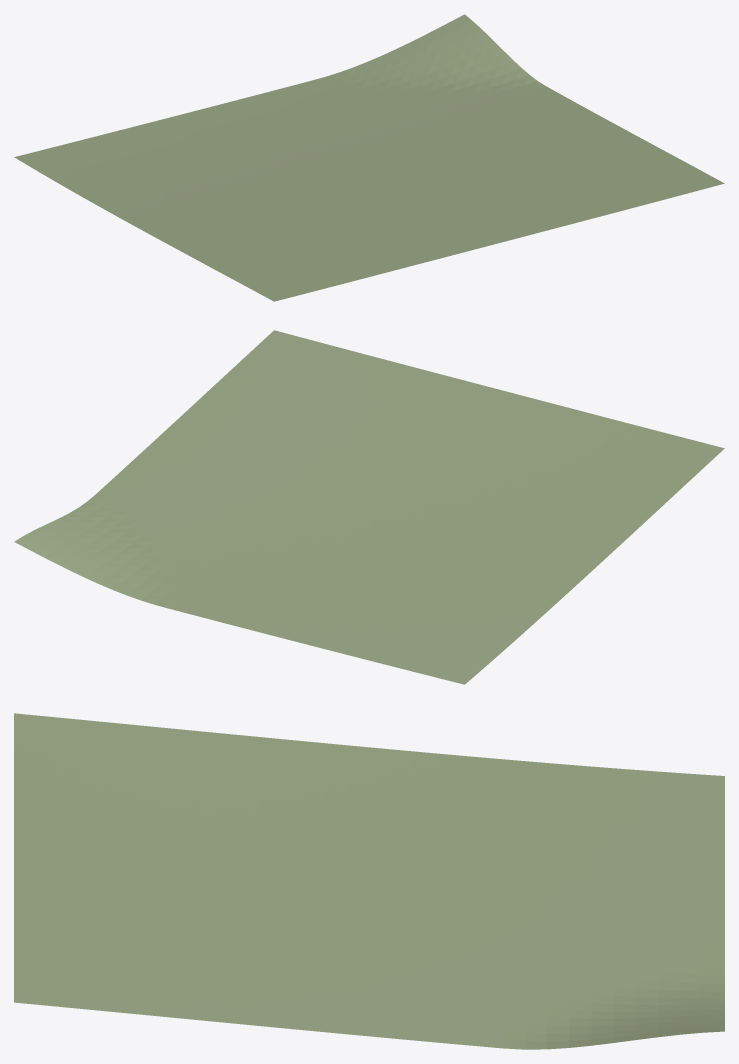
Rendered from desert-7-26.glb.
The picture shows the model from 3 angles, top to bottom: view 1: azimuth 30°, elevation 25°; view 2: azimuth 150°, elevation 25°; view 3: azimuth 270°, elevation 25°; orthographic projection. The views are drawn at different scales.
Parts seen in each view (by area): view 1: desert-7-26; view 2: desert-7-26; view 3: desert-7-26.
Boxes of the visible parts, left/top/right/bottom form: desert-7-26: left=14, top=14, right=724, bottom=301; desert-7-26: left=14, top=330, right=724, bottom=684; desert-7-26: left=14, top=713, right=724, bottom=1049.
Size of the model in its own units: 512 by 58.75 by 512.
